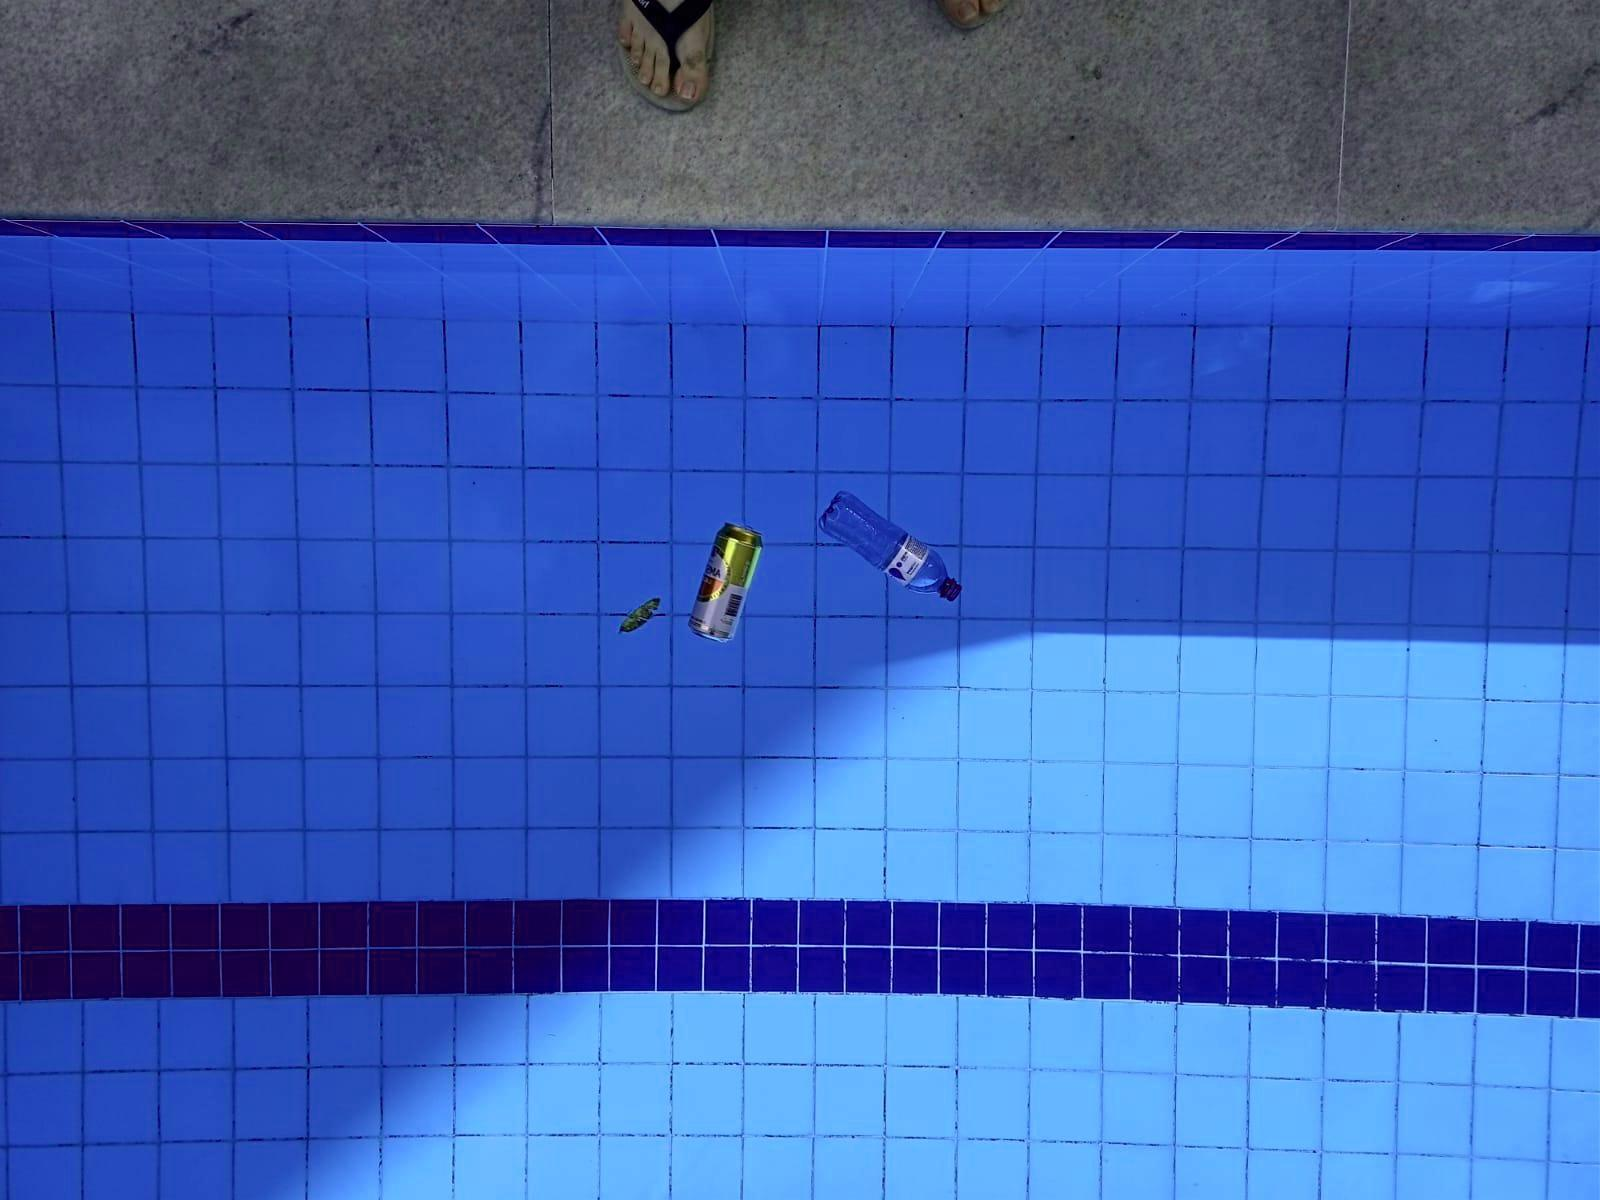Metal: (631, 503, 774, 677)
Plastic: (795, 440, 994, 630)
